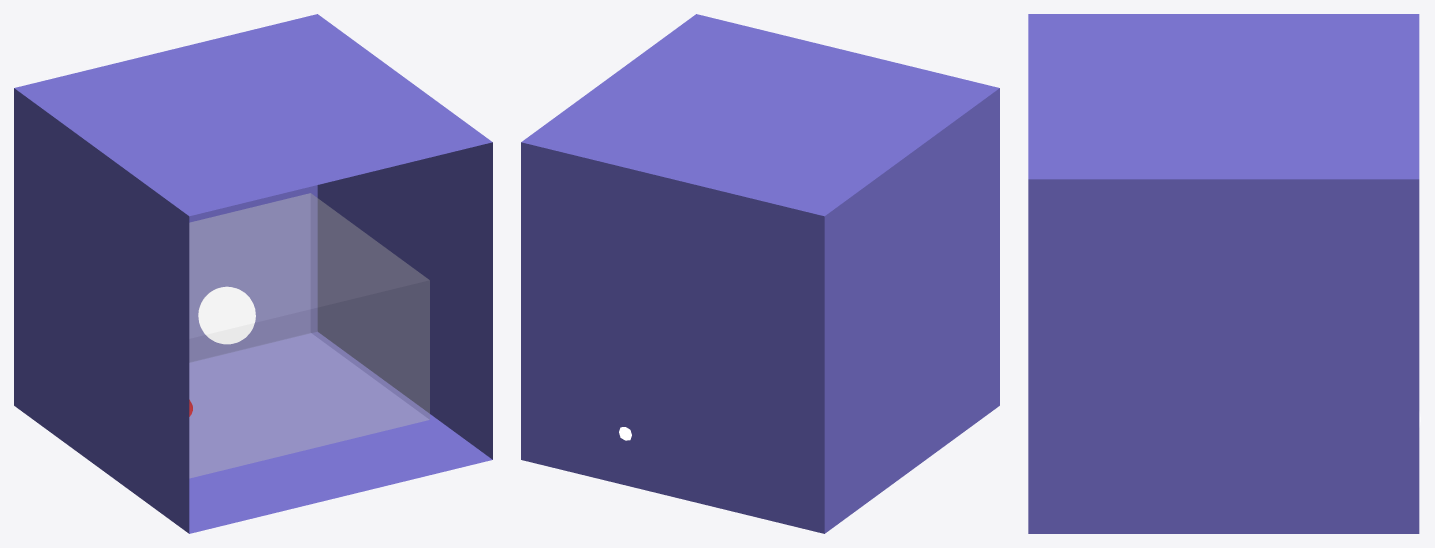
File: TestRoom2.glb
3 renders of one model, left to right at view 1: azimuth 30°, elevation 25°; view 2: azimuth 150°, elevation 25°; view 3: azimuth 270°, elevation 25°, orthographic. The views are drawn at different scales.
Visible parts, largest first — view 1: Walls, Glass, Light.001; view 2: Walls; view 3: Walls.
Part boxes in pixels (x1=…): Walls: x1=14, y1=14, x2=492, y2=533; Glass: x1=189, y1=193, x2=429, y2=477; Light.001: x1=198, y1=286, x2=255, y2=344; Walls: x1=521, y1=14, x2=999, y2=533; Walls: x1=1028, y1=14, x2=1419, y2=533.
Size of the model in its own units: 2 by 2 by 2.01.
